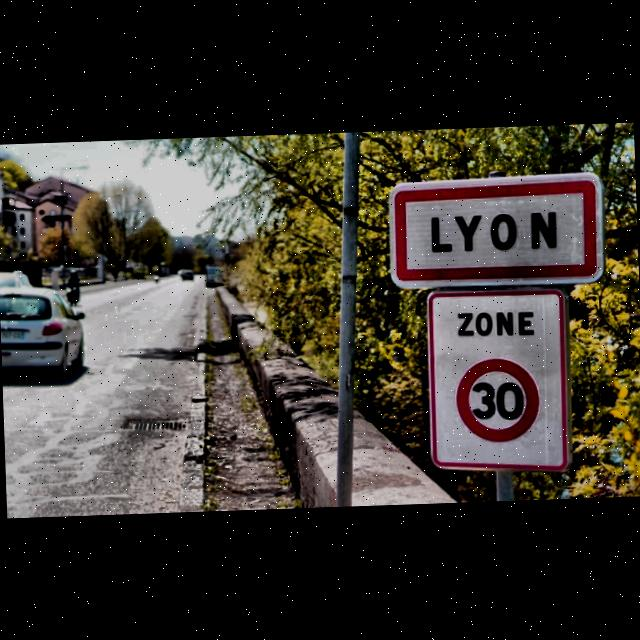speed_30: (453, 355, 543, 445)
